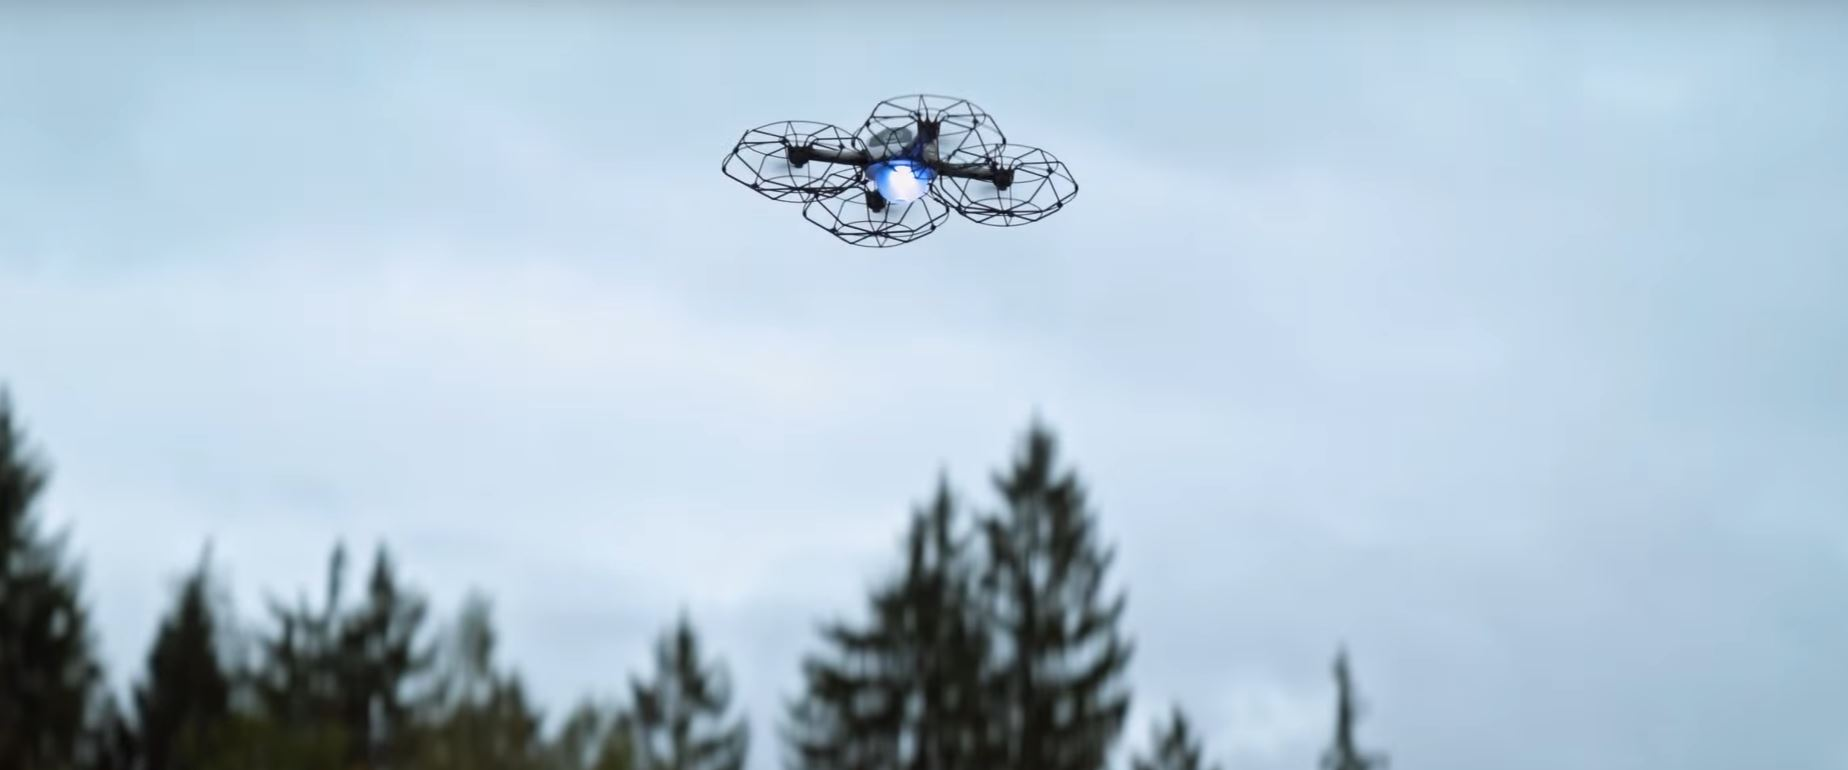drone: (720, 90, 1080, 254)
